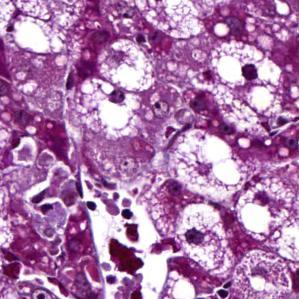ballooning: (204, 41, 284, 135), (168, 128, 246, 206), (173, 201, 236, 278), (96, 39, 156, 92)
